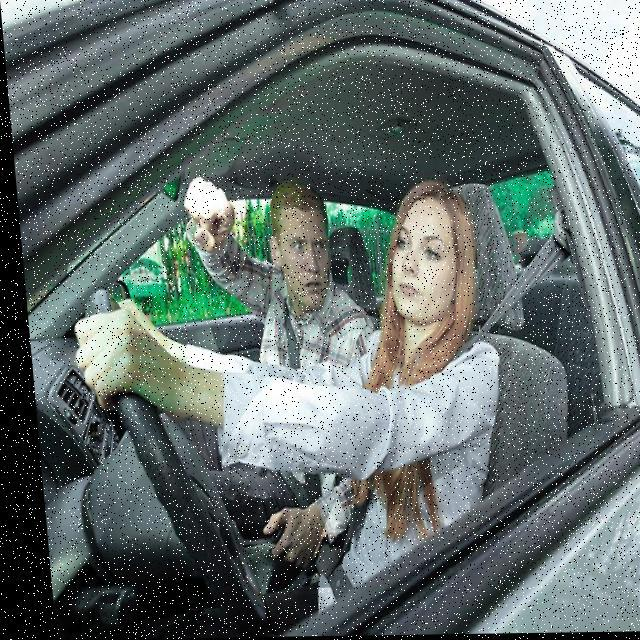seatbelt: (356, 236, 582, 494), (220, 250, 356, 433)
